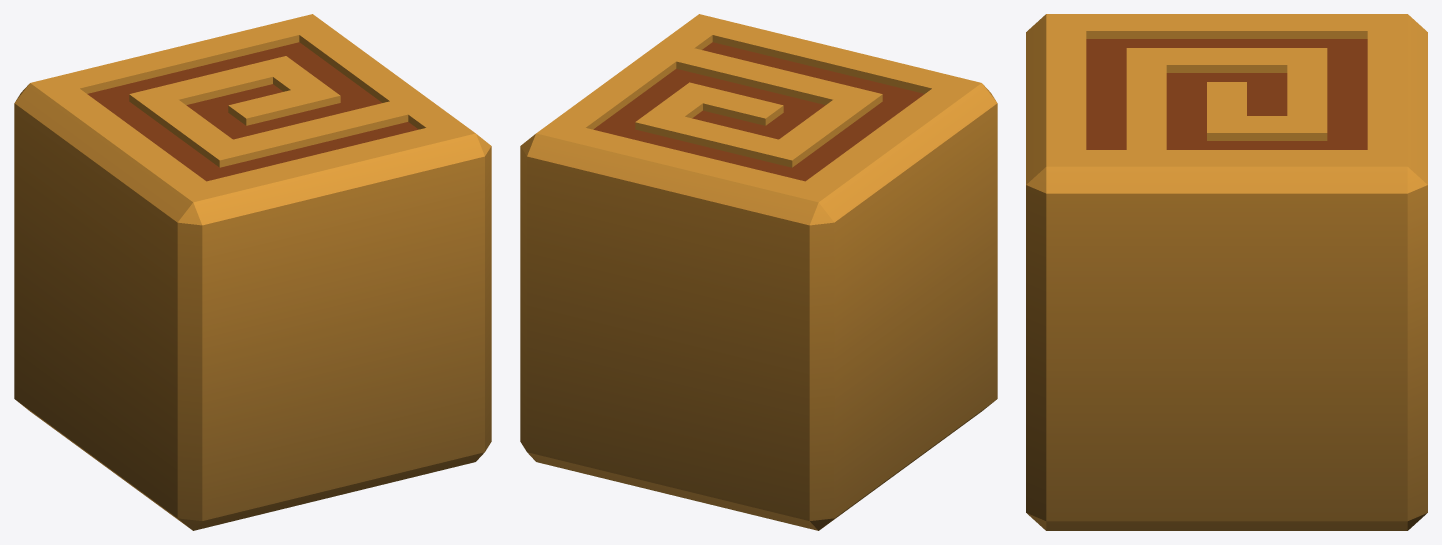
Rendered from Tile_BuntutEmas.fbx.
The picture shows the model from 3 angles, left to right: view 1: azimuth 30°, elevation 25°; view 2: azimuth 150°, elevation 25°; view 3: azimuth 270°, elevation 25°; orthographic projection. The views are drawn at different scales.
Parts seen in each view (by area): view 1: Tile Buntut Emas; view 2: Tile Buntut Emas; view 3: Tile Buntut Emas.
Part boxes in pixels (box(x1,y1,x2,y2)): Tile Buntut Emas: box(14, 14, 491, 530); Tile Buntut Emas: box(520, 14, 997, 530); Tile Buntut Emas: box(1026, 14, 1427, 530).
Bounding box in the file's own units: 1 × 1 × 1.
Materials: 1 (1 with a texture image).
